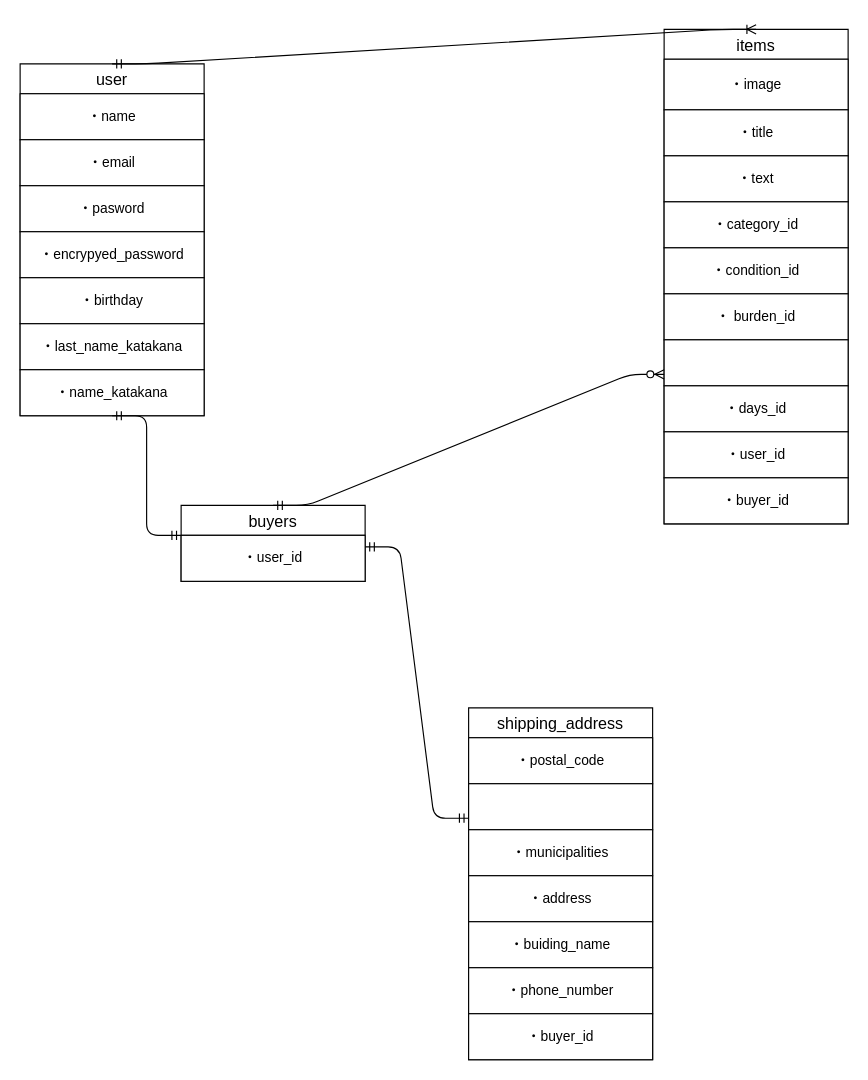
The diagram is 868 pixels wide and 1080 high, and some of its shapes have lost their labels. The centre of each missing label's shape, as x and y in pixels:
・area_id: point 755,362
・prefecture: point 560,806
